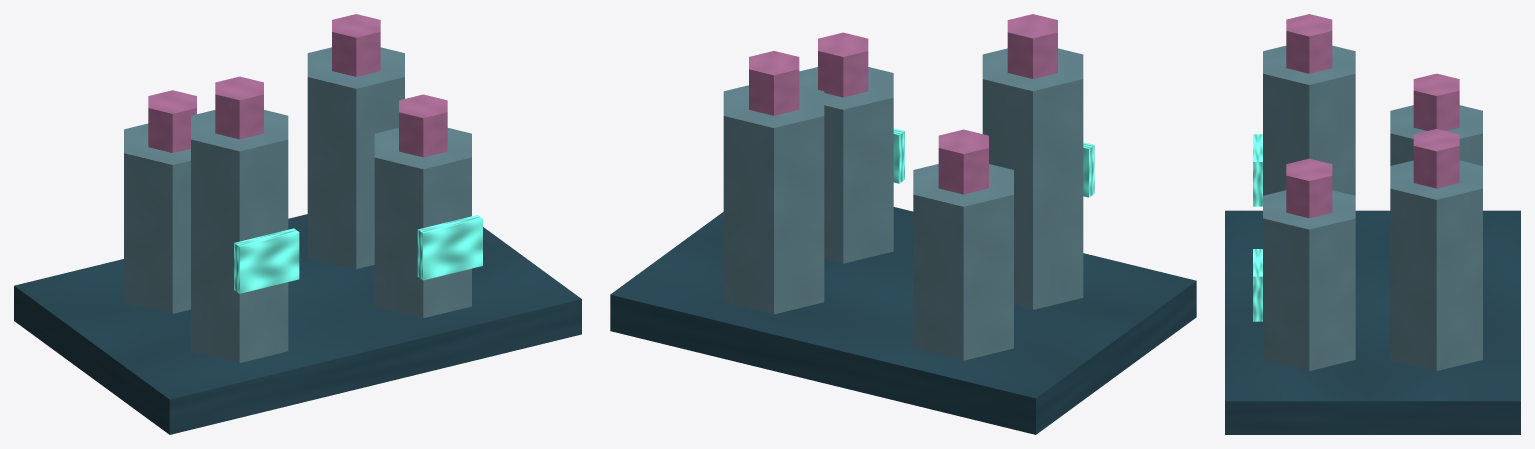
The model's file is atlas100-s061-a04.lod1.glb.
3 renders of one model, left to right at view 1: azimuth 30°, elevation 25°; view 2: azimuth 150°, elevation 25°; view 3: azimuth 270°, elevation 25°, orthographic. The views are drawn at different scales.
Visible parts, largest first — view 1: atlas100-s061-a04:part-000, atlas100-s061-a04:part-007, atlas100-s061-a04:part-004, atlas100-s061-a04:part-010, atlas100-s061-a04:part-001, atlas100-s061-a04:part-012, atlas100-s061-a04:part-009, atlas100-s061-a04:part-005, atlas100-s061-a04:part-008, atlas100-s061-a04:part-011, atlas100-s061-a04:part-002; view 2: atlas100-s061-a04:part-000, atlas100-s061-a04:part-004, atlas100-s061-a04:part-007, atlas100-s061-a04:part-001, atlas100-s061-a04:part-010, atlas100-s061-a04:part-008, atlas100-s061-a04:part-002, atlas100-s061-a04:part-005, atlas100-s061-a04:part-011, atlas100-s061-a04:part-009, atlas100-s061-a04:part-012; view 3: atlas100-s061-a04:part-000, atlas100-s061-a04:part-004, atlas100-s061-a04:part-010, atlas100-s061-a04:part-007, atlas100-s061-a04:part-001, atlas100-s061-a04:part-005, atlas100-s061-a04:part-011, atlas100-s061-a04:part-008, atlas100-s061-a04:part-002, atlas100-s061-a04:part-009, atlas100-s061-a04:part-012.
Part boxes in pixels (bbox=[...]): atlas100-s061-a04:part-000: bbox=[14, 214, 581, 434]; atlas100-s061-a04:part-007: bbox=[191, 110, 288, 362]; atlas100-s061-a04:part-004: bbox=[307, 47, 404, 269]; atlas100-s061-a04:part-010: bbox=[374, 128, 471, 318]; atlas100-s061-a04:part-001: bbox=[124, 123, 190, 313]; atlas100-s061-a04:part-012: bbox=[417, 215, 482, 280]; atlas100-s061-a04:part-009: bbox=[234, 228, 299, 293]; atlas100-s061-a04:part-005: bbox=[332, 14, 380, 76]; atlas100-s061-a04:part-008: bbox=[215, 76, 263, 139]; atlas100-s061-a04:part-011: bbox=[399, 94, 447, 157]; atlas100-s061-a04:part-002: bbox=[148, 90, 196, 152]; atlas100-s061-a04:part-000: bbox=[610, 207, 1196, 434]; atlas100-s061-a04:part-004: bbox=[723, 85, 824, 314]; atlas100-s061-a04:part-007: bbox=[982, 48, 1083, 309]; atlas100-s061-a04:part-001: bbox=[913, 164, 1013, 360]; atlas100-s061-a04:part-010: bbox=[799, 67, 893, 263]; atlas100-s061-a04:part-008: bbox=[1007, 14, 1057, 78]; atlas100-s061-a04:part-002: bbox=[938, 129, 988, 194]; atlas100-s061-a04:part-005: bbox=[749, 51, 799, 115]; atlas100-s061-a04:part-011: bbox=[818, 32, 868, 97]; atlas100-s061-a04:part-009: bbox=[1083, 142, 1094, 197]; atlas100-s061-a04:part-012: bbox=[893, 128, 904, 183]; atlas100-s061-a04:part-000: bbox=[1225, 210, 1520, 434]; atlas100-s061-a04:part-004: bbox=[1390, 160, 1482, 370]; atlas100-s061-a04:part-010: bbox=[1263, 190, 1355, 370]; atlas100-s061-a04:part-007: bbox=[1263, 45, 1355, 195]; atlas100-s061-a04:part-001: bbox=[1390, 105, 1482, 165]; atlas100-s061-a04:part-005: bbox=[1413, 129, 1459, 188]; atlas100-s061-a04:part-011: bbox=[1286, 158, 1332, 218]; atlas100-s061-a04:part-008: bbox=[1286, 14, 1332, 73]; atlas100-s061-a04:part-002: bbox=[1413, 73, 1459, 130]; atlas100-s061-a04:part-009: bbox=[1253, 134, 1262, 206]; atlas100-s061-a04:part-012: bbox=[1253, 249, 1262, 321].
Bounding box in the file's own units: 1.18 × 0.7804 × 0.7697.
4 materials, 4 textured.
